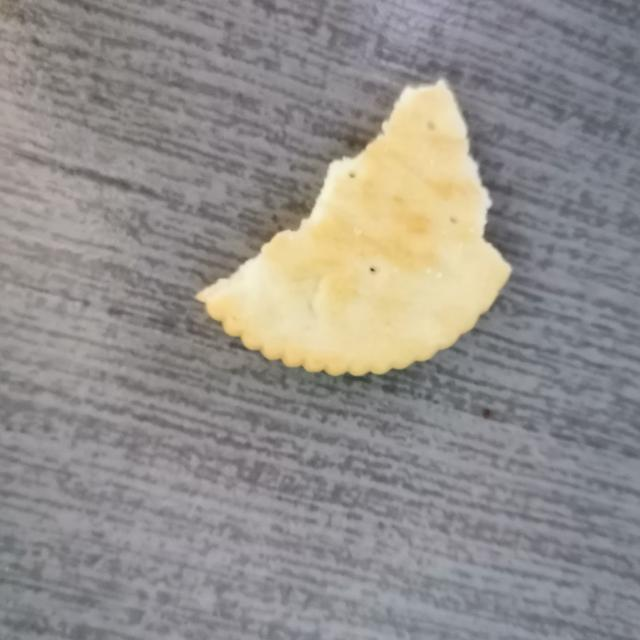Broken: (193, 77, 512, 378)
